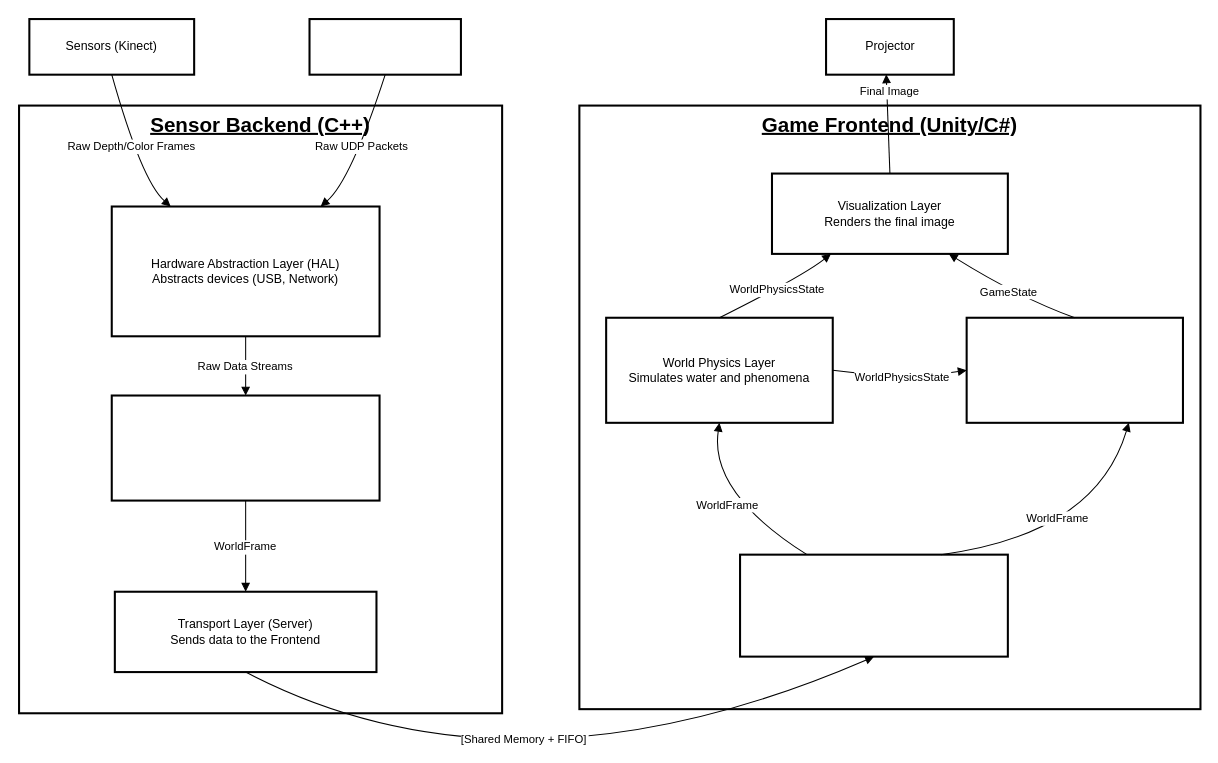
Some shapes in this 1218 by 763 pixel diagram are drawn without their labels. The centre of each missing label's shape, as x and y in pixels:
"Gameplay Layer Implements game rules and interactions" belongs at point 1074,369.
"Processing Layer Filters, aggregates, and analyzes data" belongs at point 245,447.
"Smartphone" belongs at point 384,46.
"Transport Layer (Client) Receives data from the Backend" belongs at point 873,605.
